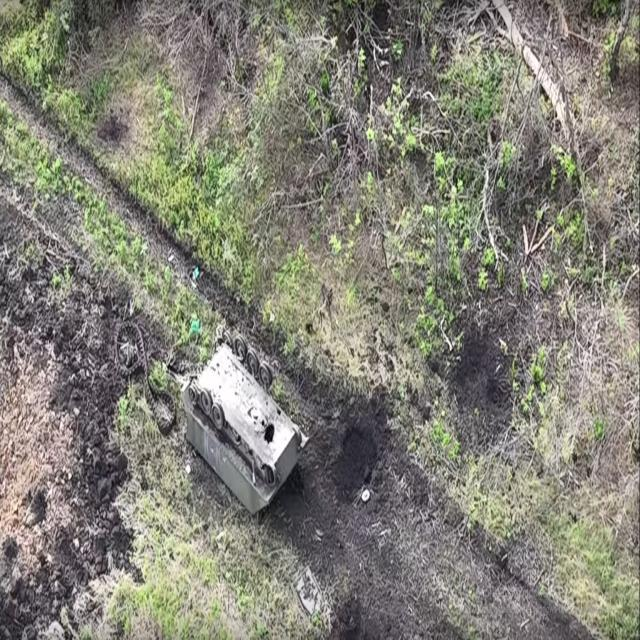APC: (183, 327, 310, 520)
